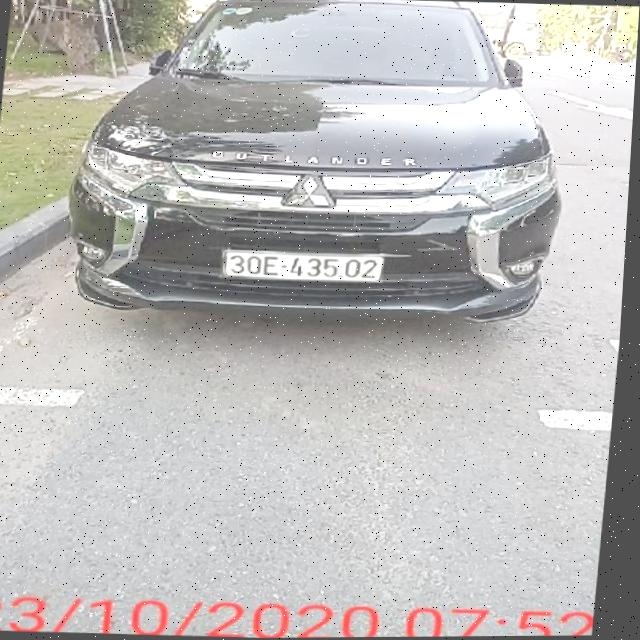car: (52, 0, 588, 340)
plate: (216, 242, 391, 290)
